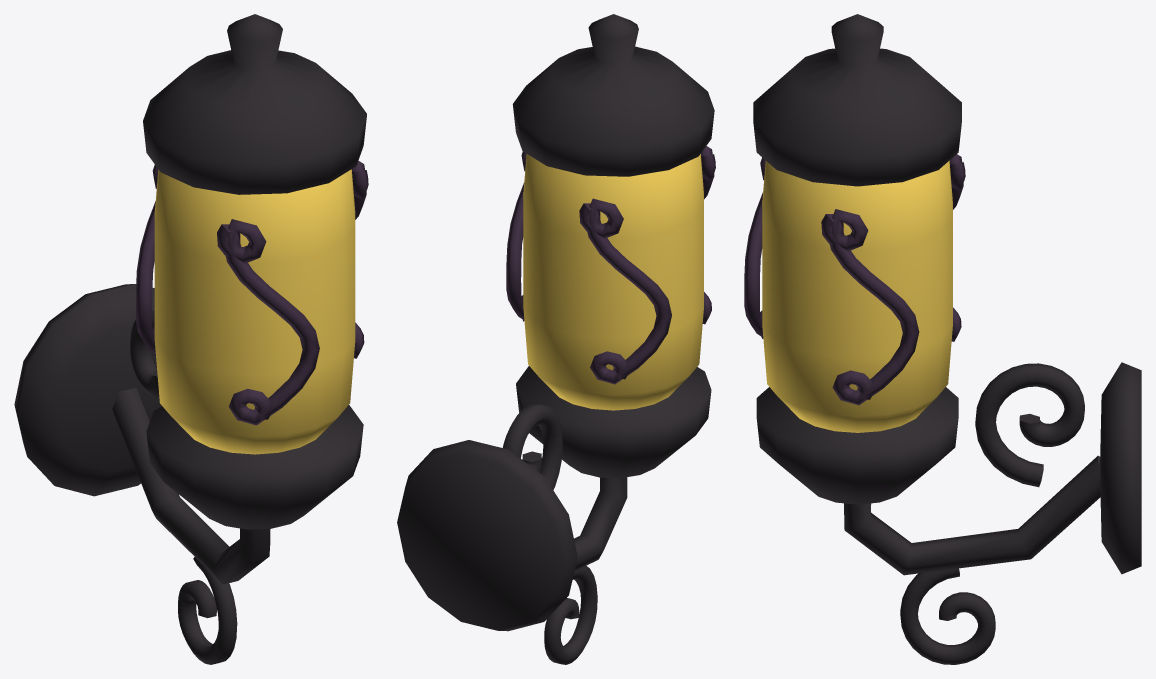
Rendered from wall_sconce.glb.
The picture shows the model from 3 angles, left to right: view 1: azimuth 30°, elevation 25°; view 2: azimuth 150°, elevation 25°; view 3: azimuth 270°, elevation 25°; orthographic projection. The views are drawn at different scales.
Visible parts, largest first — view 1: wall_sconce; view 2: wall_sconce; view 3: wall_sconce.
Boxes of the visible parts, x1,y1,x2,y2 form: wall_sconce: [14, 14, 368, 664]; wall_sconce: [397, 14, 715, 664]; wall_sconce: [744, 14, 1141, 664].
Bounding box in the file's own units: 0.133 × 0.4284 × 0.2378.
